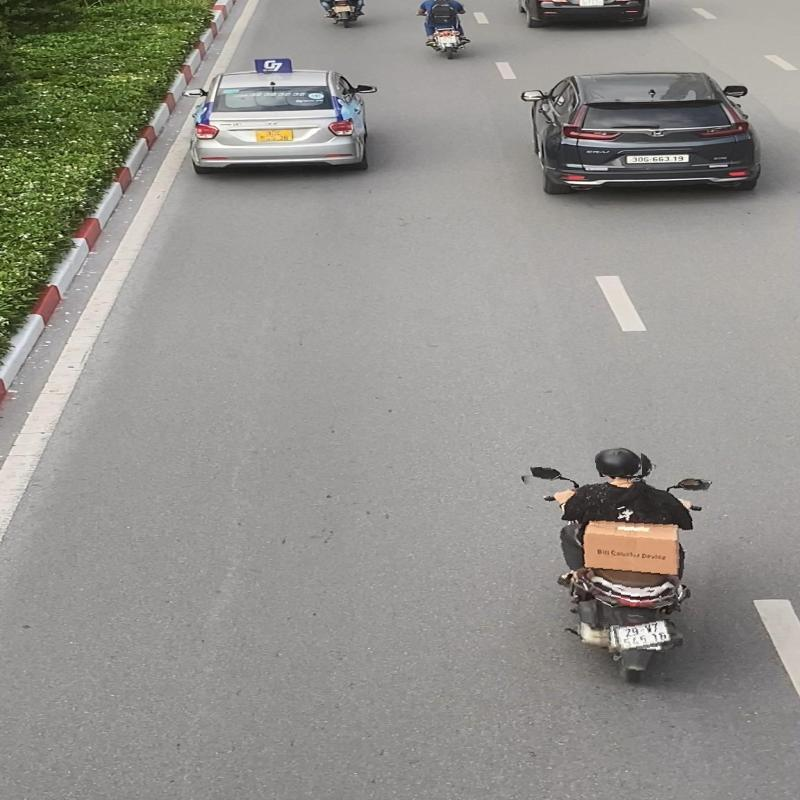helmet: (596, 446, 643, 477)
licenseplate: (614, 620, 678, 650)
motorcyclist: (510, 440, 716, 688)
